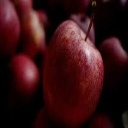apple: (42, 14, 104, 124)
